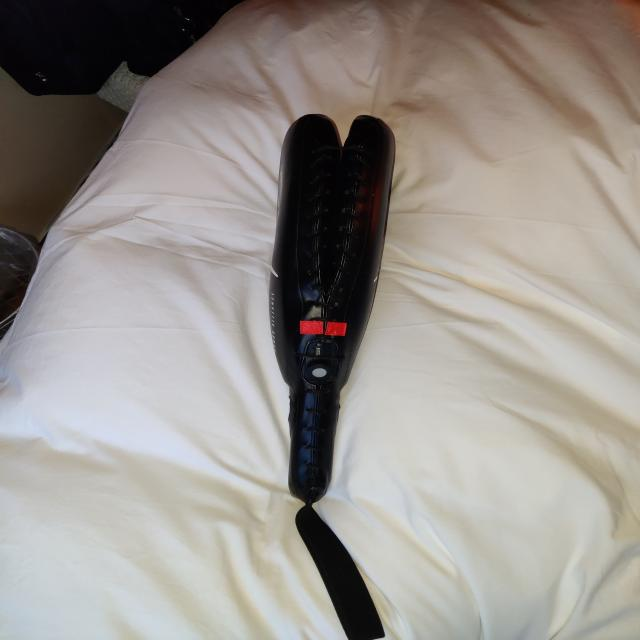paddle: (268, 108, 400, 502)
